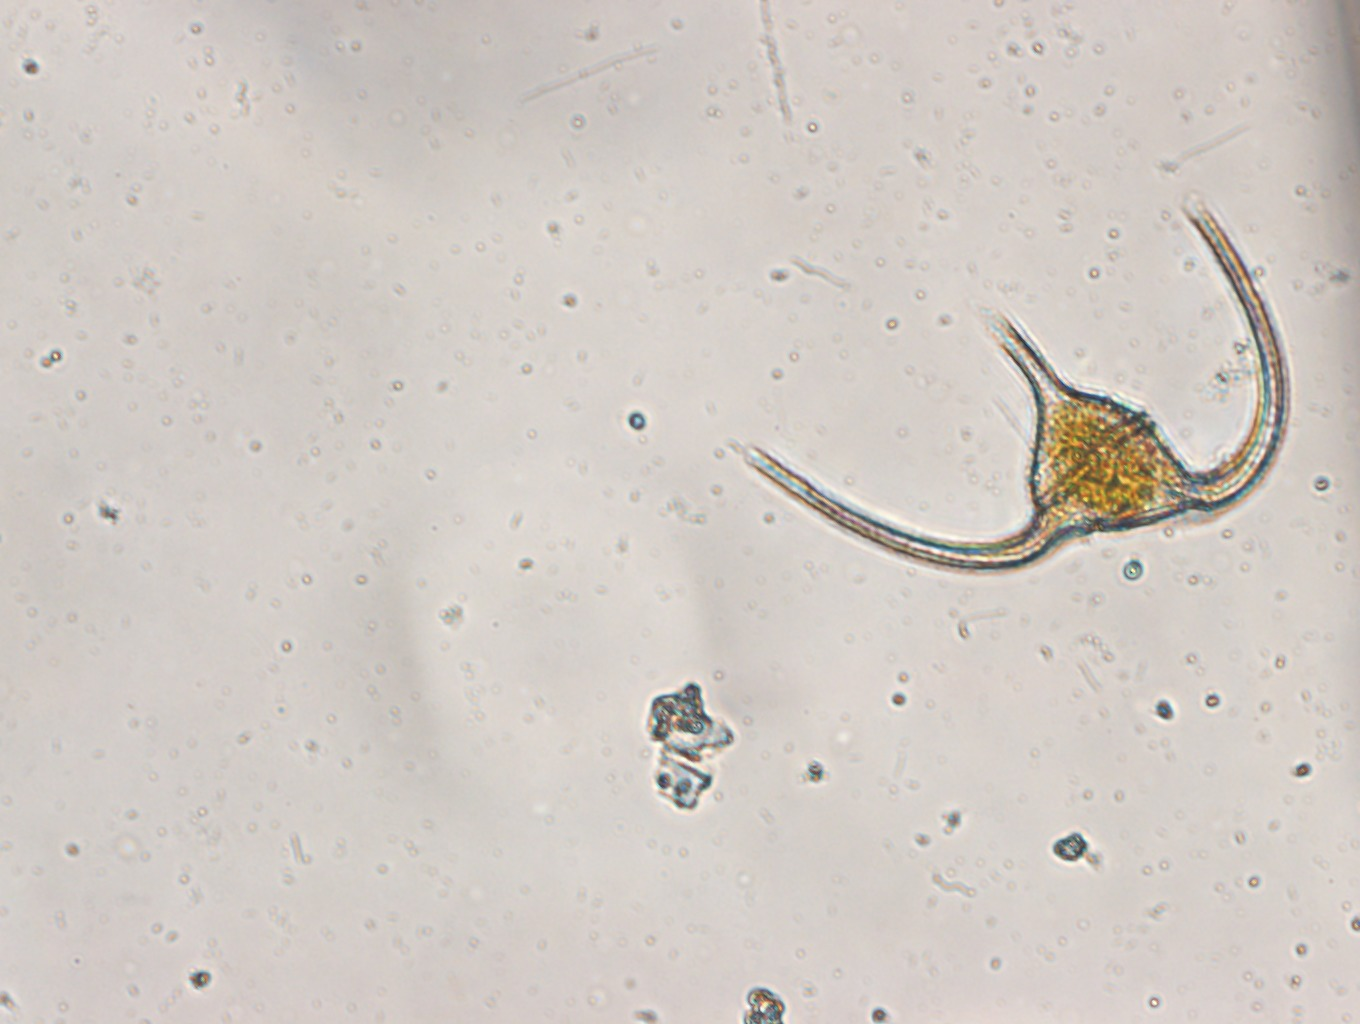ceratium trichoceros: (715, 193, 1299, 577)
